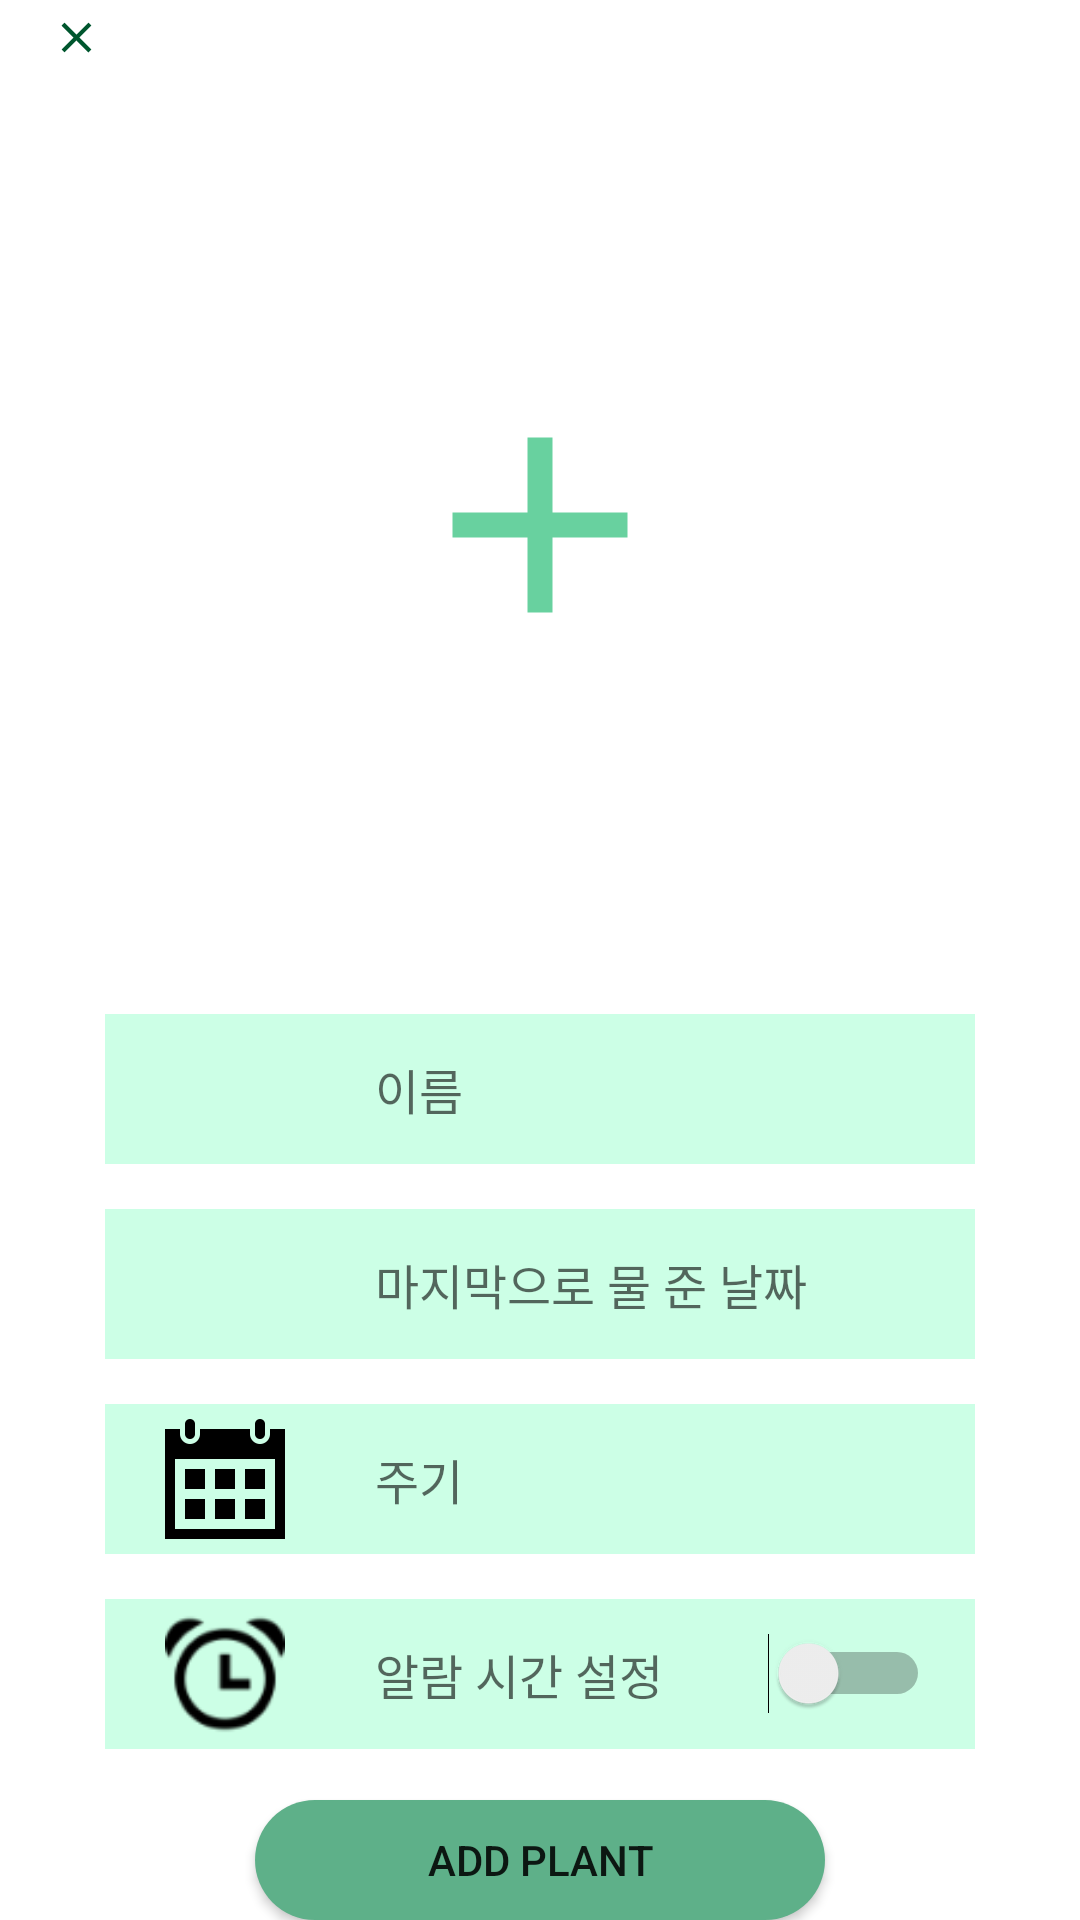

Named icons in this screenshot (1080px×1920px) and their bounding boxes, box(x1, y1, x2, y2):
add: box(452, 437, 628, 613)
alarm: box(165, 1617, 285, 1731)
calendar: box(165, 1419, 285, 1539)
close: box(61, 22, 92, 53)
